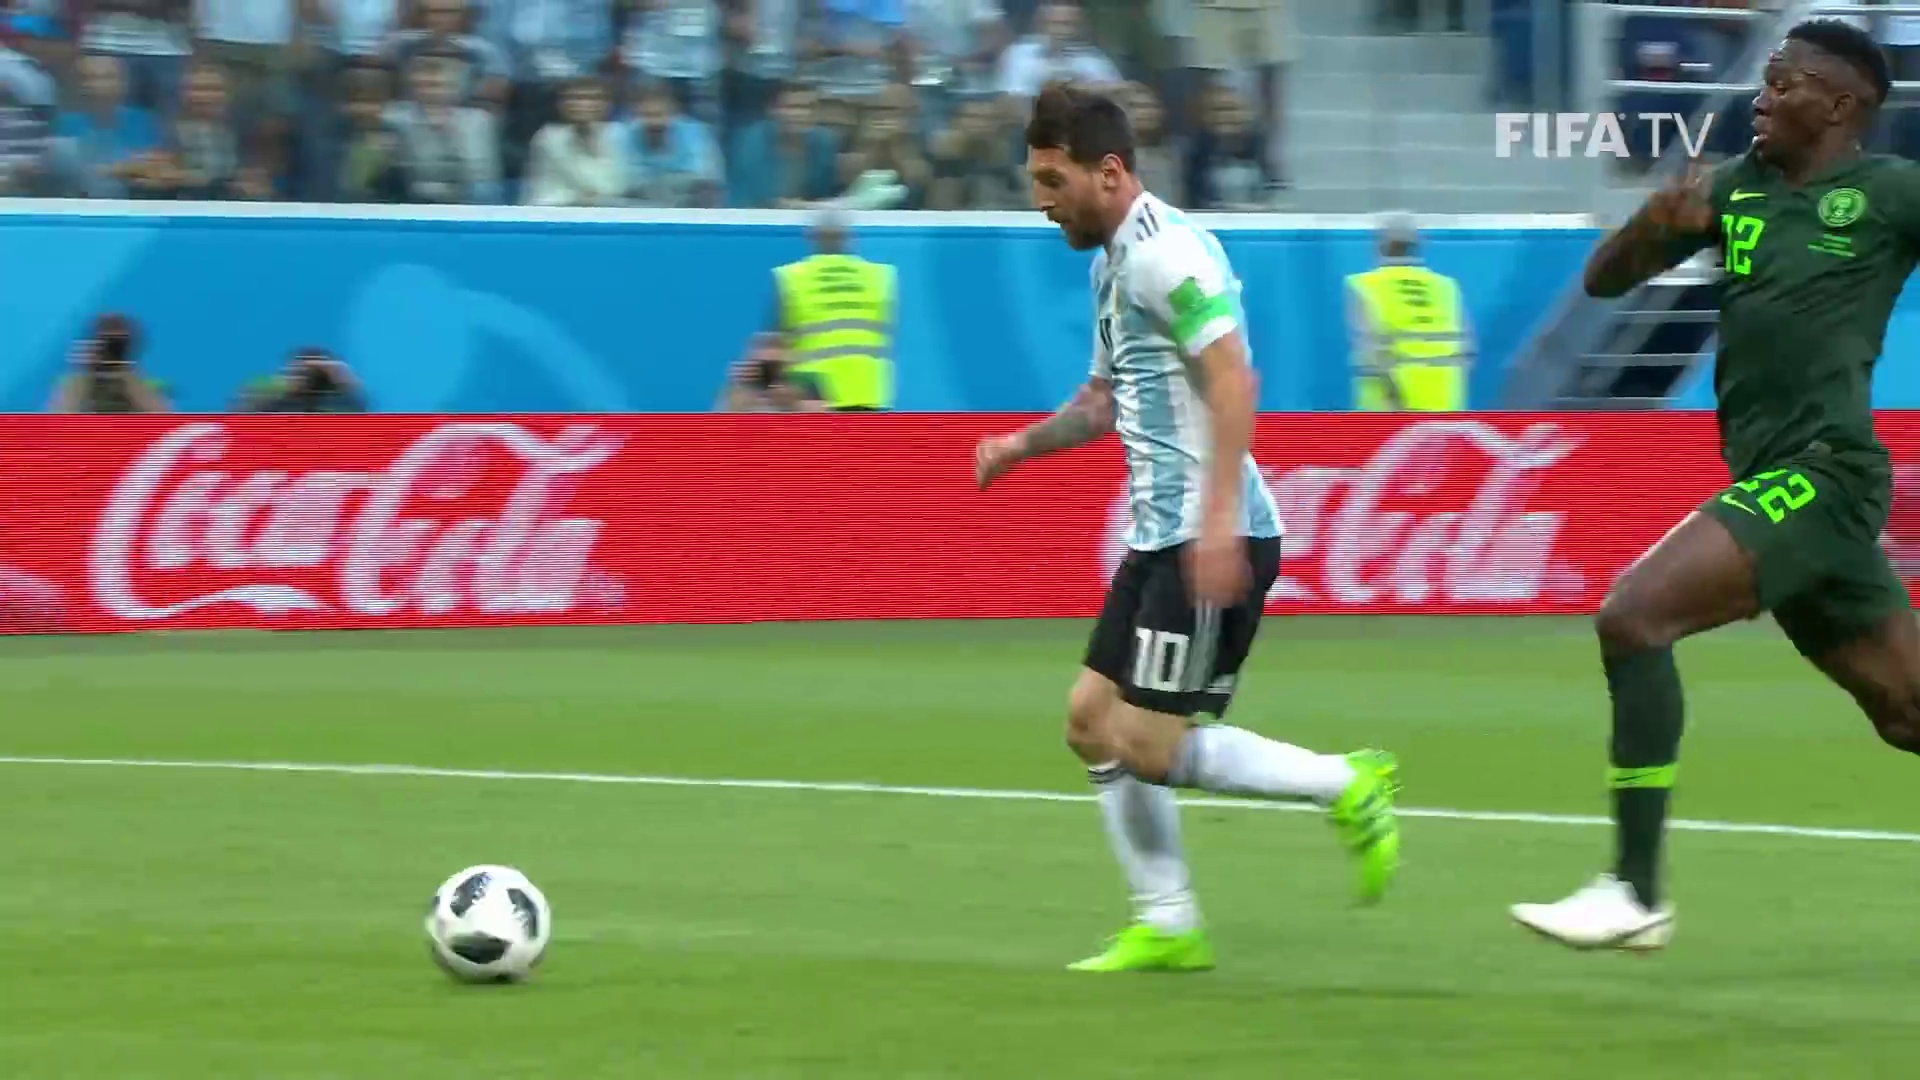ball: (434, 869, 546, 982)
person: (977, 80, 1399, 972), (1581, 23, 1920, 951)
